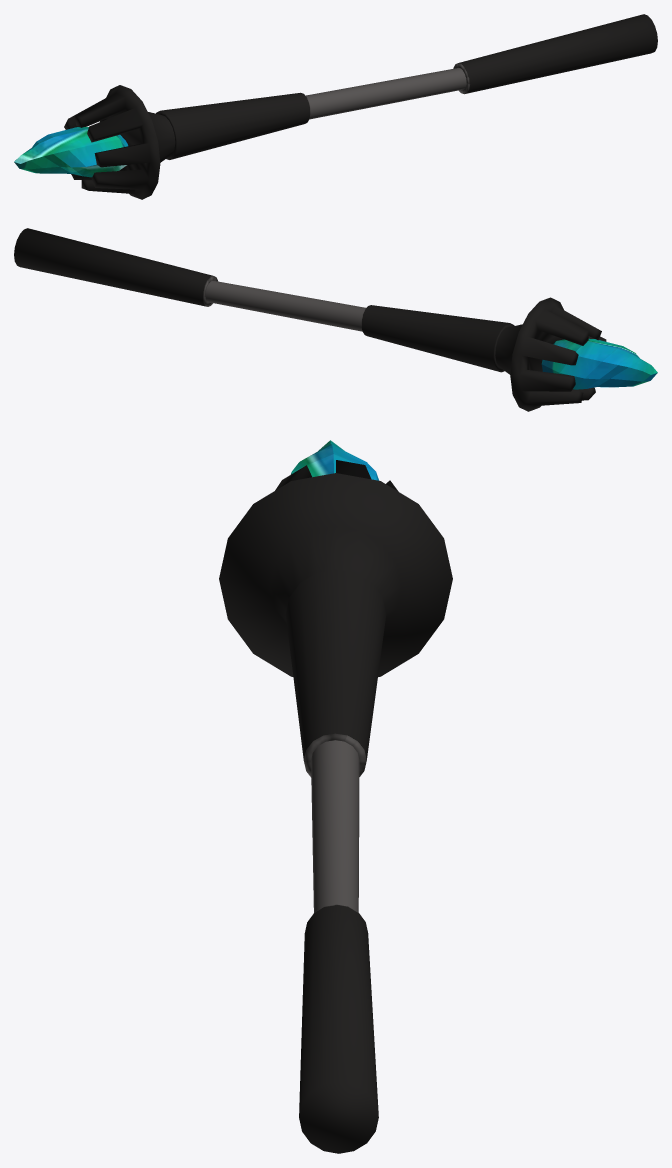
File: 2Tier_staff_fix.fbx
The picture shows the model from 3 angles, top to bottom: view 1: azimuth 30°, elevation 25°; view 2: azimuth 150°, elevation 25°; view 3: azimuth 270°, elevation 25°; orthographic projection. The views are drawn at different scales.
Parts seen in each view (by area): view 1: staff_2lv; view 2: staff_2lv; view 3: staff_2lv.
Boxes of the visible parts, left/top/right/bottom form: staff_2lv: left=14, top=14, right=657, bottom=199; staff_2lv: left=14, top=228, right=657, bottom=411; staff_2lv: left=219, top=440, right=452, bottom=1153.
Bounding box in the file's own units: 61.2 × 9.81 × 9.81.
Materials: 2 (2 with a texture image).
